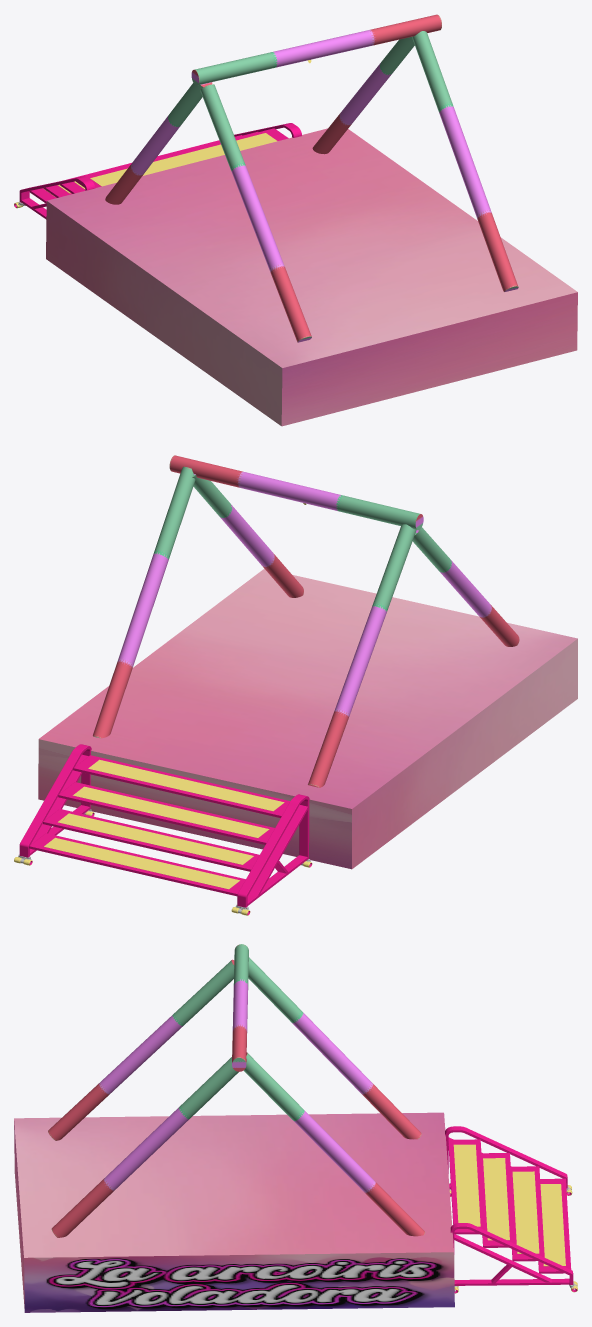
Rendered from BASE_JUEGOFINAL.obj.
The picture shows the model from 3 angles, top to bottom: view 1: azimuth 30°, elevation 25°; view 2: azimuth 150°, elevation 25°; view 3: azimuth 270°, elevation 25°; orthographic projection. The views are drawn at different scales.
Visible parts, largest first — view 1: Object_2.002; view 2: Object_2.002; view 3: Object_2.002.
Boxes of the visible parts, <box> form: Object_2.002: <box>14,14,577,426</box>; Object_2.002: <box>14,455,577,915</box>; Object_2.002: <box>14,944,577,1312</box>.
Bounding box in the file's own units: 12.81 × 10.44 × 21.5.
11 materials, 10 textured.
